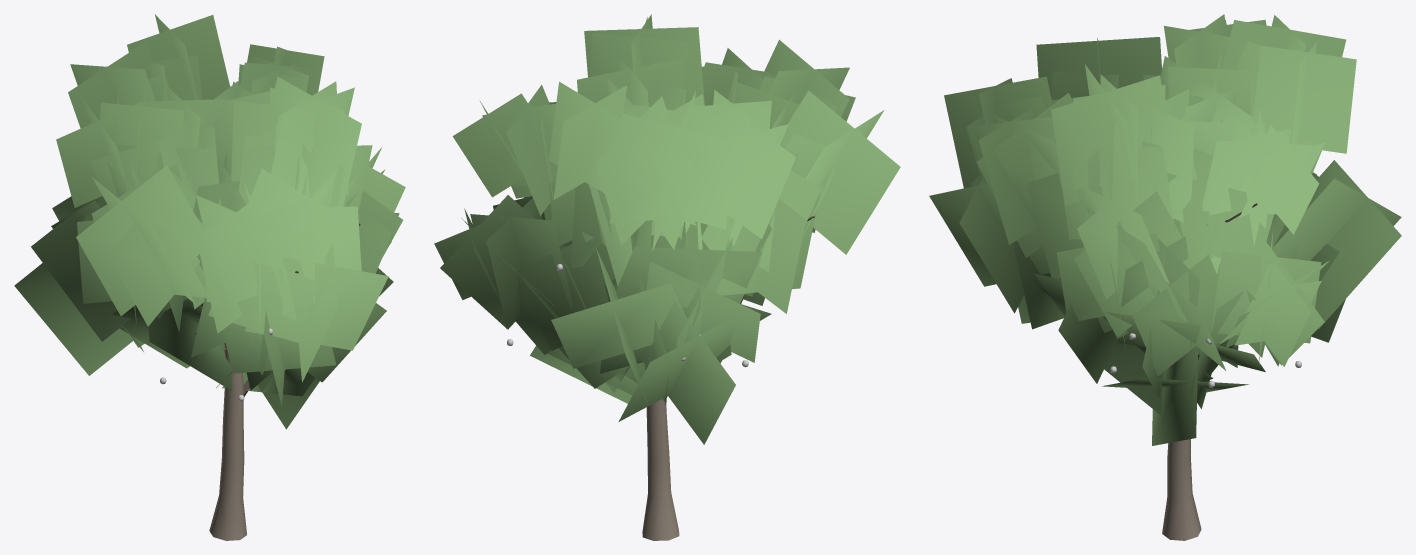
The model's file is tree_apple_fruit_a_lod0.glb.
3 renders of one model, left to right at view 1: azimuth 30°, elevation 25°; view 2: azimuth 150°, elevation 25°; view 3: azimuth 270°, elevation 25°, orthographic. The views are drawn at different scales.
Parts seen in each view (by area): view 1: tree_apple_fruit_a_lod0; view 2: tree_apple_fruit_a_lod0; view 3: tree_apple_fruit_a_lod0.
Part boxes in pixels (x1,y1,x2,y2): tree_apple_fruit_a_lod0: [14, 14, 405, 540]; tree_apple_fruit_a_lod0: [434, 14, 900, 540]; tree_apple_fruit_a_lod0: [929, 14, 1401, 540].
Size of the model in its own units: 4.99 by 6.41 by 5.6.
